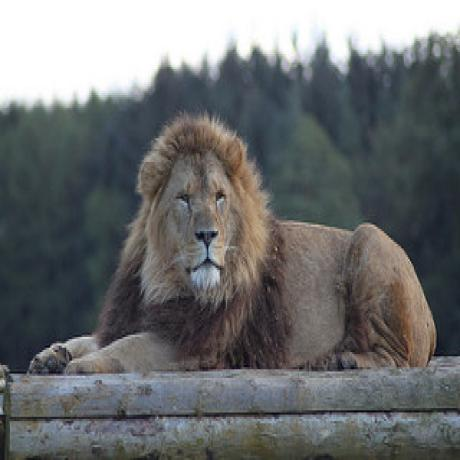Lion: (43, 109, 434, 367)
